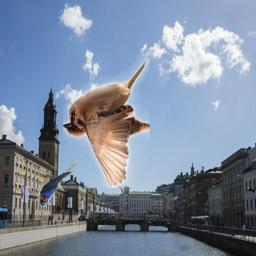Sparrow: (63, 58, 150, 188)
Swallow: (38, 160, 78, 207)
